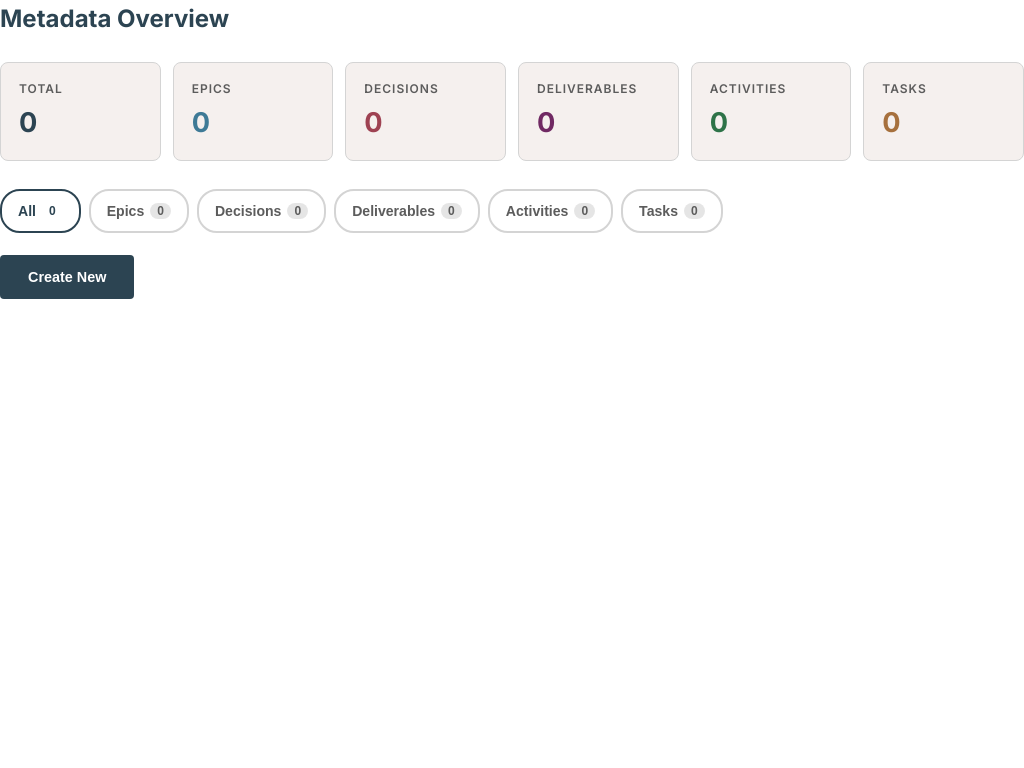
Test: OverviewPage Integration Tests › opens create modal when Create New button is clicked
Check: the heading "Metadata Overview" is shown, box [0,4,229,33]
Click the button "Create New". click: coordinates (67, 277)
box: [0,255,134,299]
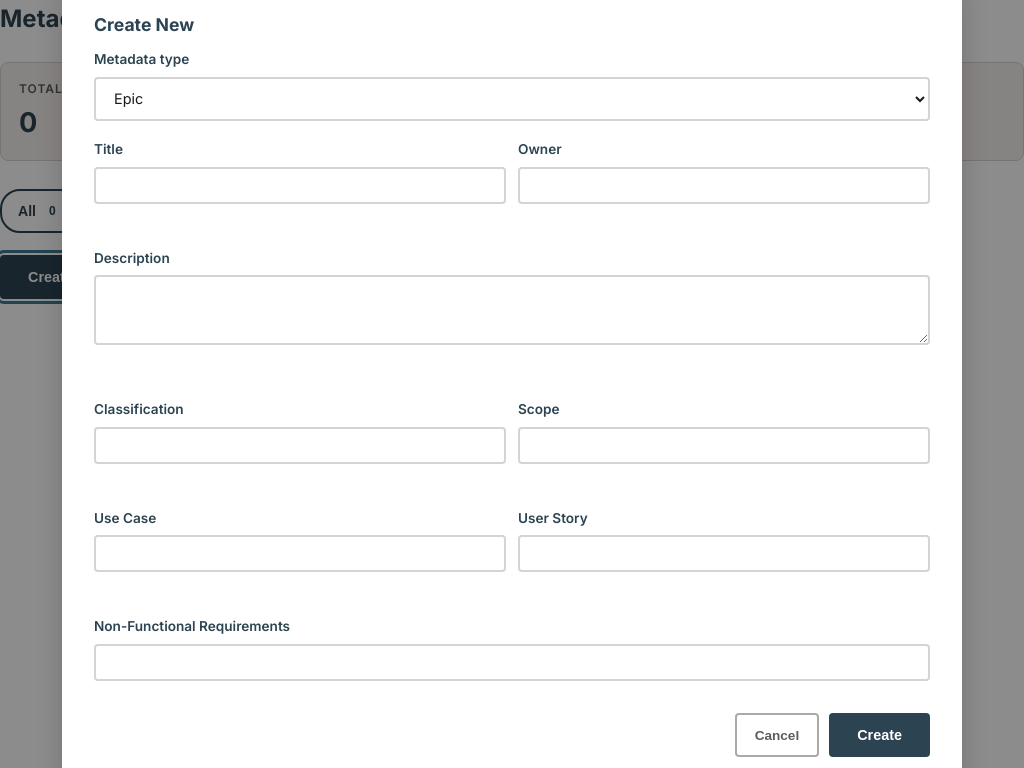
Check: the heading "Create New" is shown, box [94,14,194,35]
